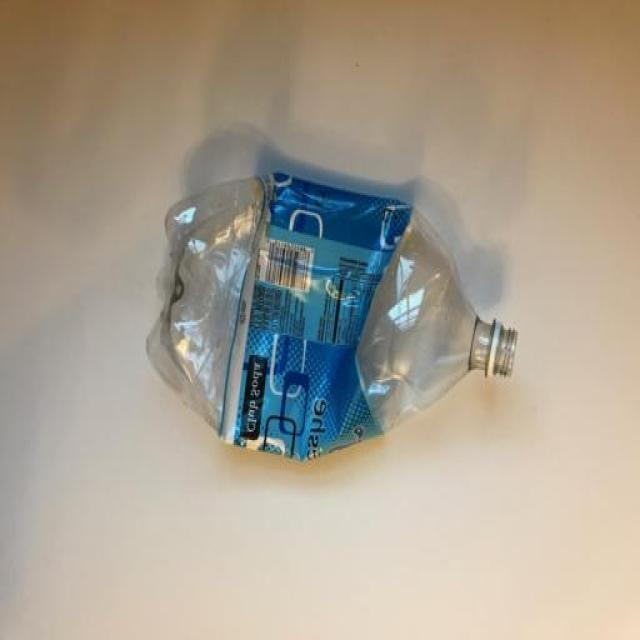plastic: (140, 168, 520, 465)
